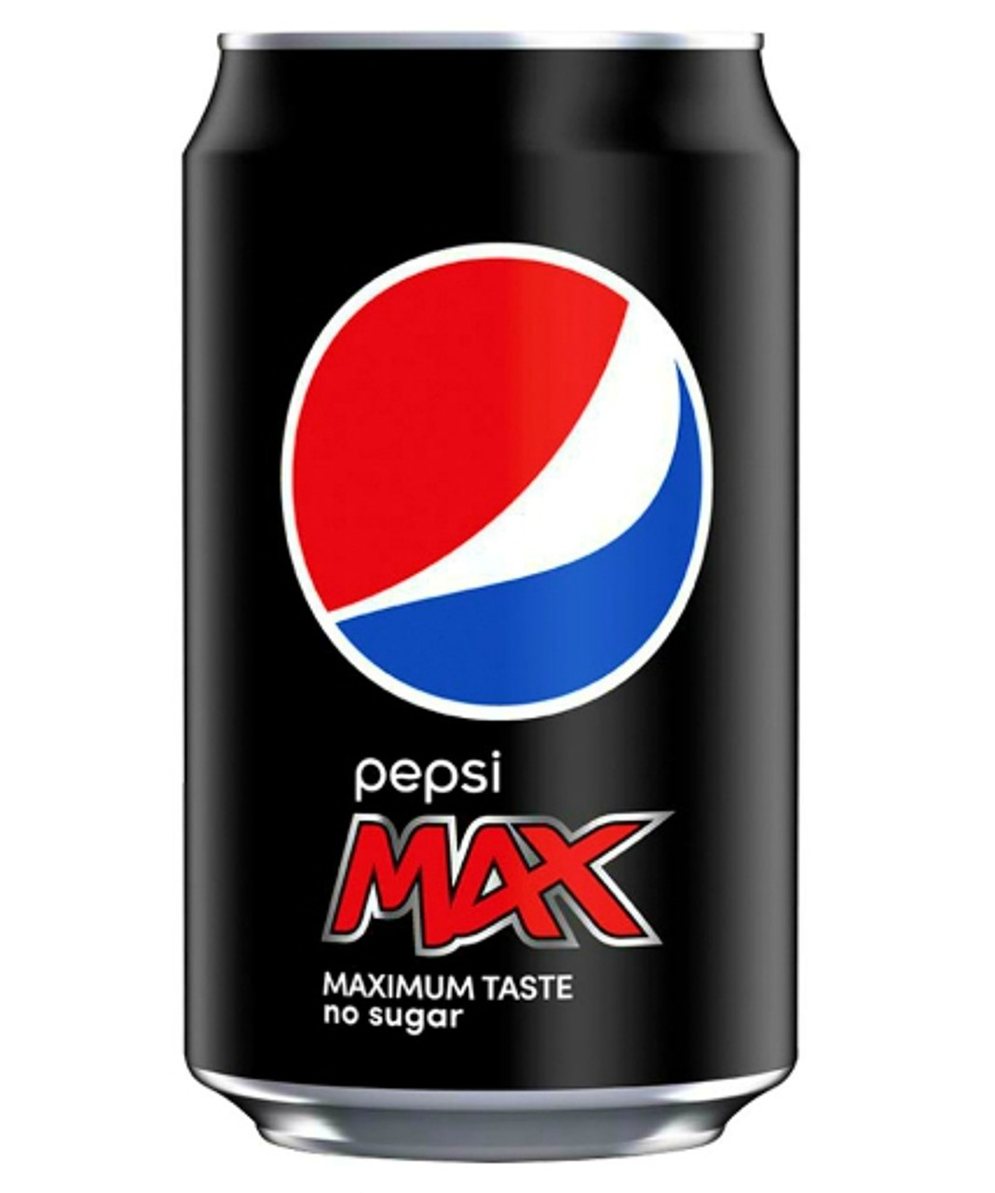cylinder: (183, 34, 800, 1162)
